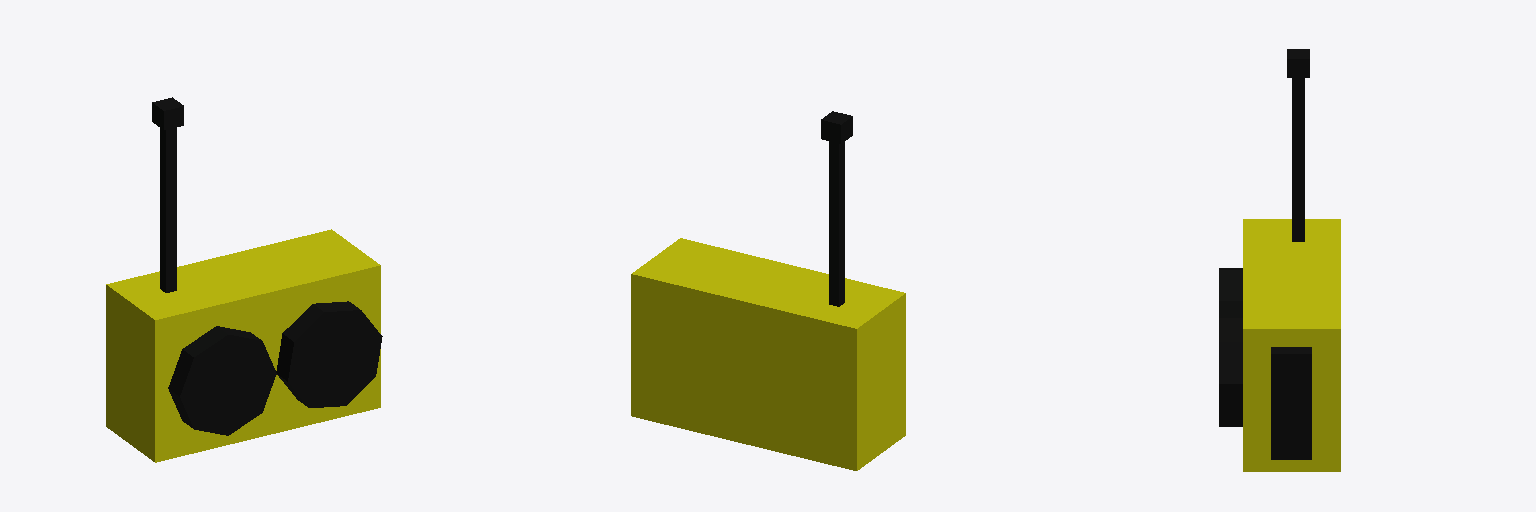
The model's file is prop_radio1_mesh_01_v1.glb.obj.
The picture shows the model from 3 angles: view 1: azimuth 30°, elevation 25°; view 2: azimuth 150°, elevation 25°; view 3: azimuth 270°, elevation 25°; orthographic projection.
Parts seen in each view (by area): view 1: Radio; view 2: Radio; view 3: Radio.
Boxes of the visible parts, x1,y1,x2,y2 form: Radio: [106, 97, 382, 462]; Radio: [631, 111, 905, 470]; Radio: [1219, 49, 1340, 471].
Size of the model in its own units: 0.9213 by 1.21 by 0.4075.